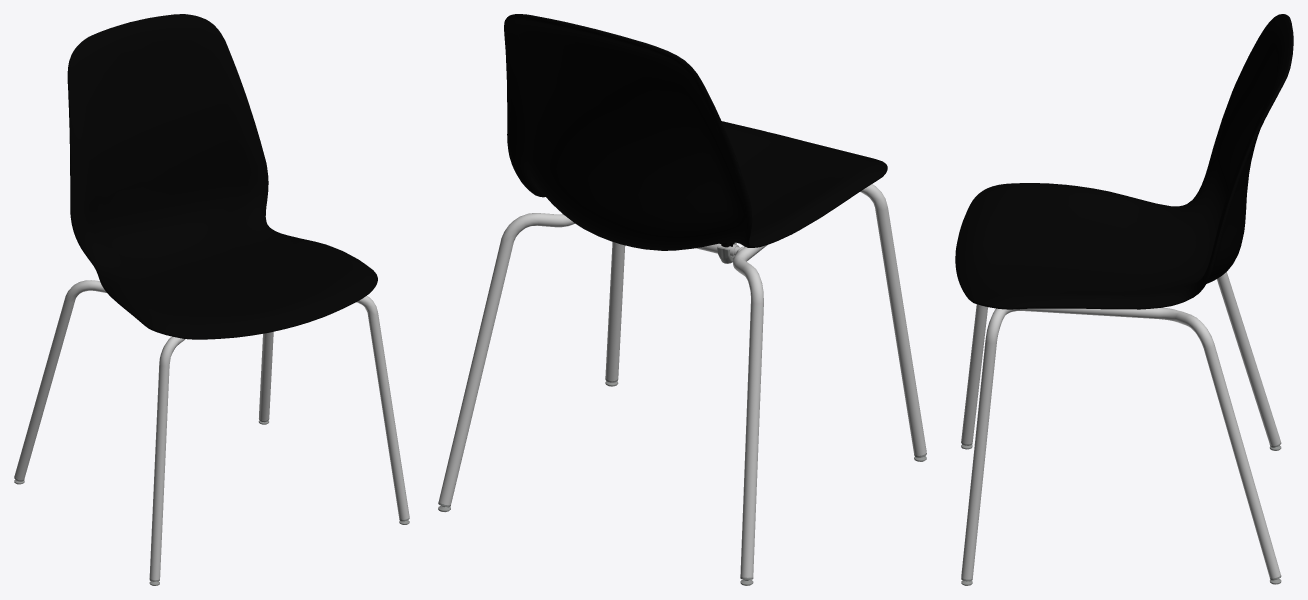
Rendered from LID_S_99505567.glb.
The picture shows the model from 3 angles, left to right: view 1: azimuth 30°, elevation 25°; view 2: azimuth 150°, elevation 25°; view 3: azimuth 270°, elevation 25°; orthographic projection. The views are drawn at different scales.
Visible parts, largest first — view 1: afad7f9f5434478a96308ae9f6cef8ad; view 2: afad7f9f5434478a96308ae9f6cef8ad; view 3: afad7f9f5434478a96308ae9f6cef8ad.
Part boxes in pixels (x1,y1,x2,y2): afad7f9f5434478a96308ae9f6cef8ad: (14,14,409,585); afad7f9f5434478a96308ae9f6cef8ad: (438,14,926,585); afad7f9f5434478a96308ae9f6cef8ad: (955,14,1293,585).
Bounding box in the file's own units: 0.5164 × 0.8123 × 0.5224.
Materials: 2 (2 with a texture image).
